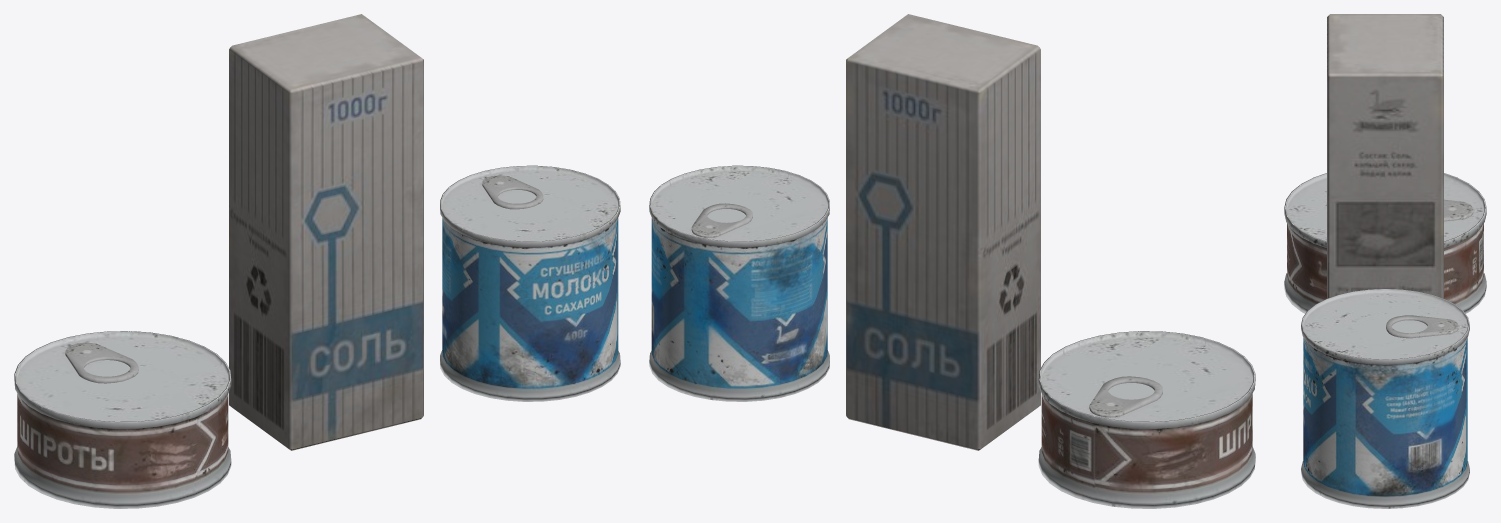
File: russian_food_cans_01.glb
3 views of the same model, side by side, from view 1: azimuth 30°, elevation 25°; view 2: azimuth 150°, elevation 25°; view 3: azimuth 270°, elevation 25° (orthographic). The views are drawn at different scales.
Parts seen in each view (by area): view 1: russian_food_cans_01_salt_box, russian_food_cans_01_can_cond, russian_food_cans_01_can_fish; view 2: russian_food_cans_01_salt_box, russian_food_cans_01_can_cond, russian_food_cans_01_can_fish; view 3: russian_food_cans_01_can_cond, russian_food_cans_01_salt_box, russian_food_cans_01_can_fish.
Part boxes in pixels (bbox=[...]): russian_food_cans_01_salt_box: bbox=[229, 14, 423, 450]; russian_food_cans_01_can_cond: bbox=[440, 165, 620, 401]; russian_food_cans_01_can_fish: bbox=[14, 331, 231, 508]; russian_food_cans_01_salt_box: bbox=[846, 14, 1040, 450]; russian_food_cans_01_can_cond: bbox=[649, 165, 829, 401]; russian_food_cans_01_can_fish: bbox=[1038, 331, 1255, 508]; russian_food_cans_01_can_cond: bbox=[1301, 288, 1469, 508]; russian_food_cans_01_salt_box: bbox=[1327, 14, 1443, 298]; russian_food_cans_01_can_fish: bbox=[1284, 173, 1486, 313].
Size of the model in its own units: 0.1424 by 0.0849 by 0.0462.
1 material, 1 textured.
